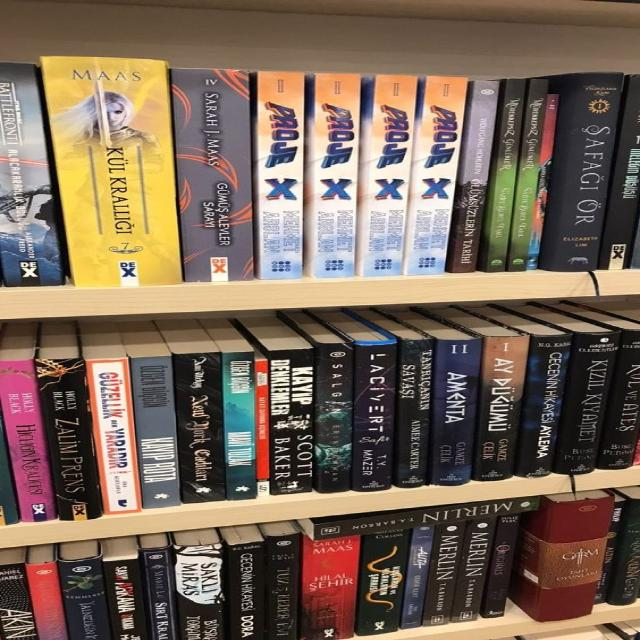book: (42, 56, 182, 287), (170, 67, 254, 281), (0, 63, 64, 287), (554, 73, 625, 272), (402, 77, 467, 275), (359, 74, 417, 276), (309, 72, 362, 278), (36, 359, 102, 521), (315, 496, 541, 541), (259, 70, 305, 279), (555, 331, 622, 473), (0, 359, 57, 522), (543, 496, 613, 621), (87, 358, 141, 515), (514, 333, 573, 476), (456, 80, 499, 272), (430, 337, 484, 485), (508, 80, 549, 271), (487, 78, 527, 273), (475, 336, 528, 480), (131, 355, 179, 509), (175, 352, 223, 502), (270, 348, 314, 496), (355, 343, 398, 491), (302, 536, 359, 640), (599, 330, 640, 469), (318, 341, 355, 495), (527, 95, 559, 269), (397, 339, 434, 486), (361, 528, 411, 636), (174, 543, 224, 639), (223, 352, 255, 501), (452, 517, 497, 622), (423, 519, 465, 627), (58, 558, 110, 640), (485, 513, 523, 618), (101, 558, 148, 640), (265, 533, 301, 640), (228, 541, 264, 640), (139, 549, 177, 640), (400, 525, 433, 629), (27, 561, 67, 640), (257, 359, 269, 501)
